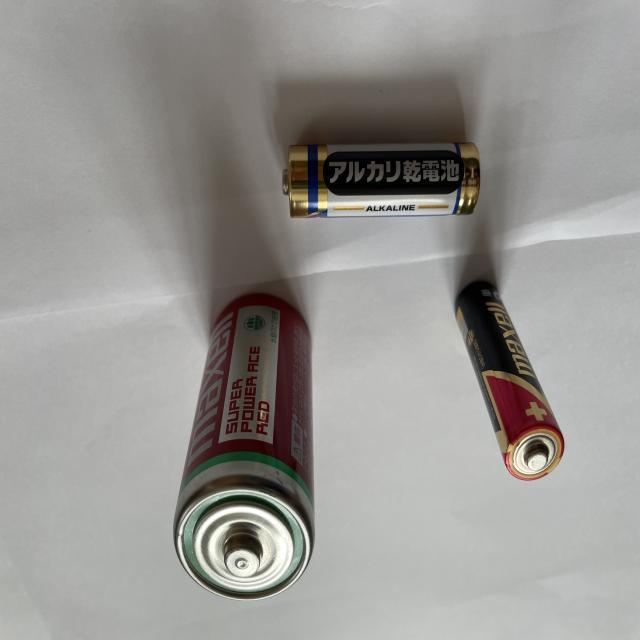hazardous waste: (174, 291, 318, 604), (454, 280, 566, 480), (282, 142, 481, 219)
